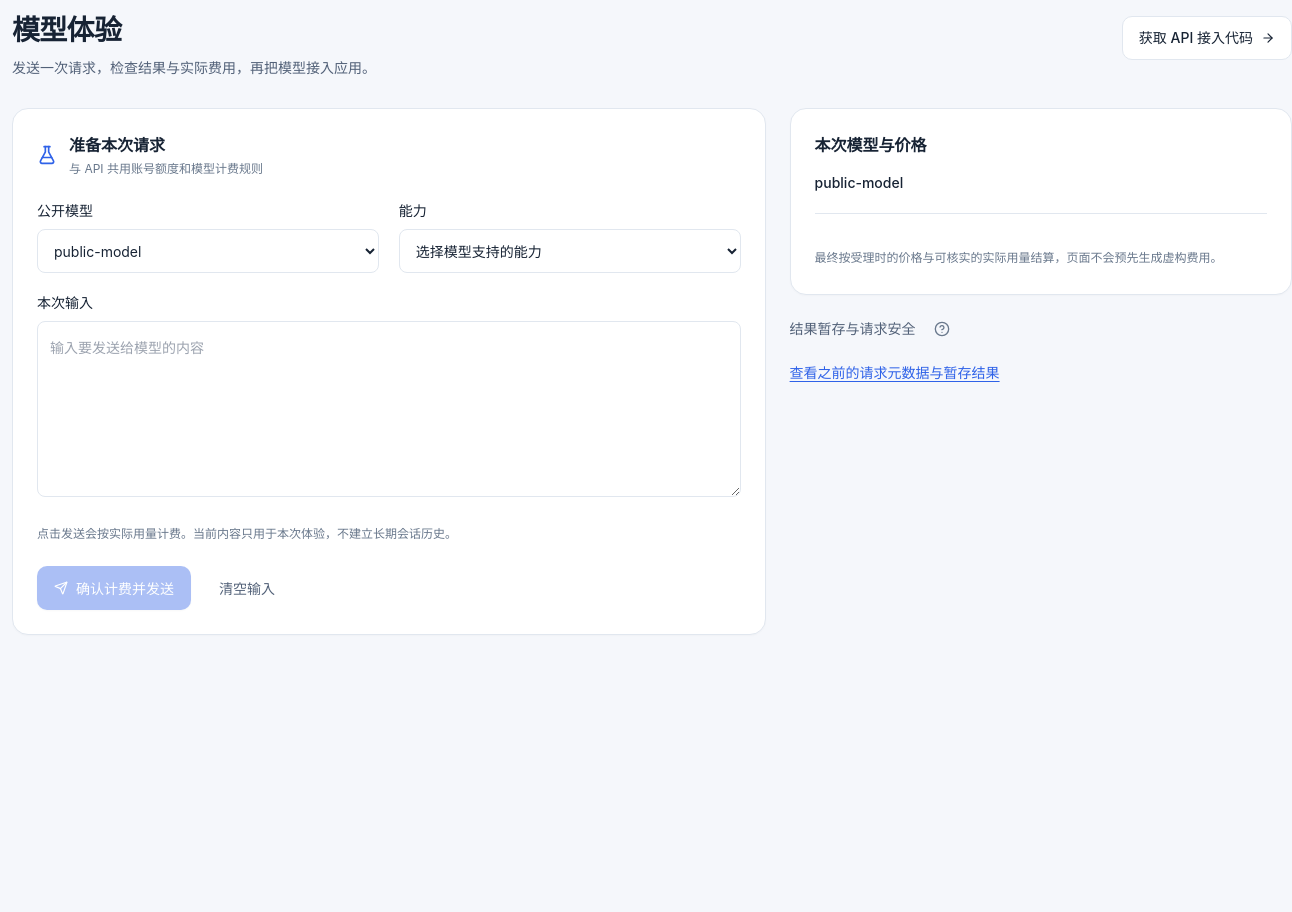
Test: still sends a chat request without asking for vendor parameters
Step 1. Select "public-model" in the dropdown labelled "公开模型" → x=208, y=251, box [37, 229, 379, 273]
Step 2. Select "文本对话" in the dropdown labelled "能力" → x=570, y=251, box [399, 229, 741, 273]
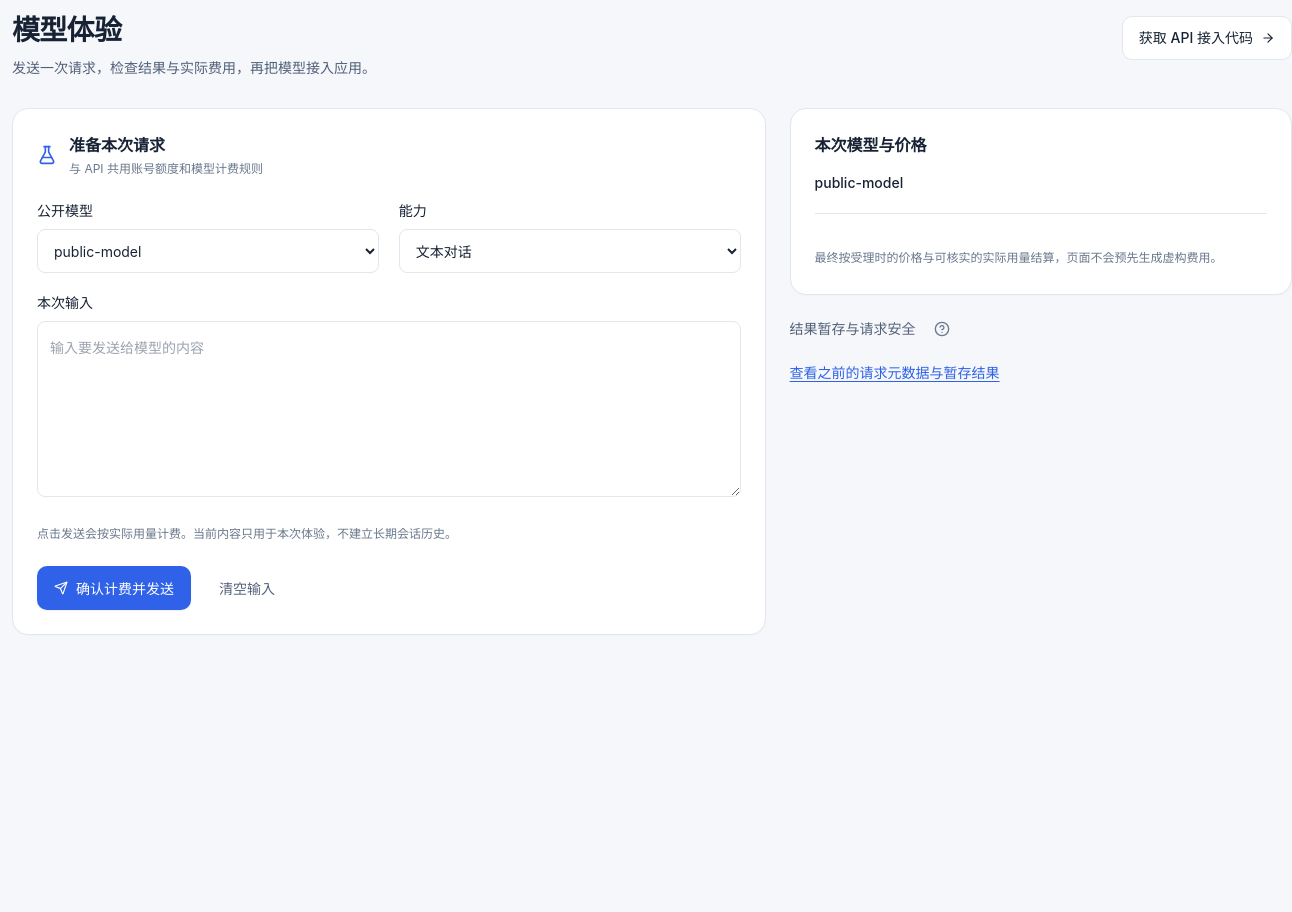
Now the button "确认计费并发送" is enabled, box [37, 566, 191, 610]
